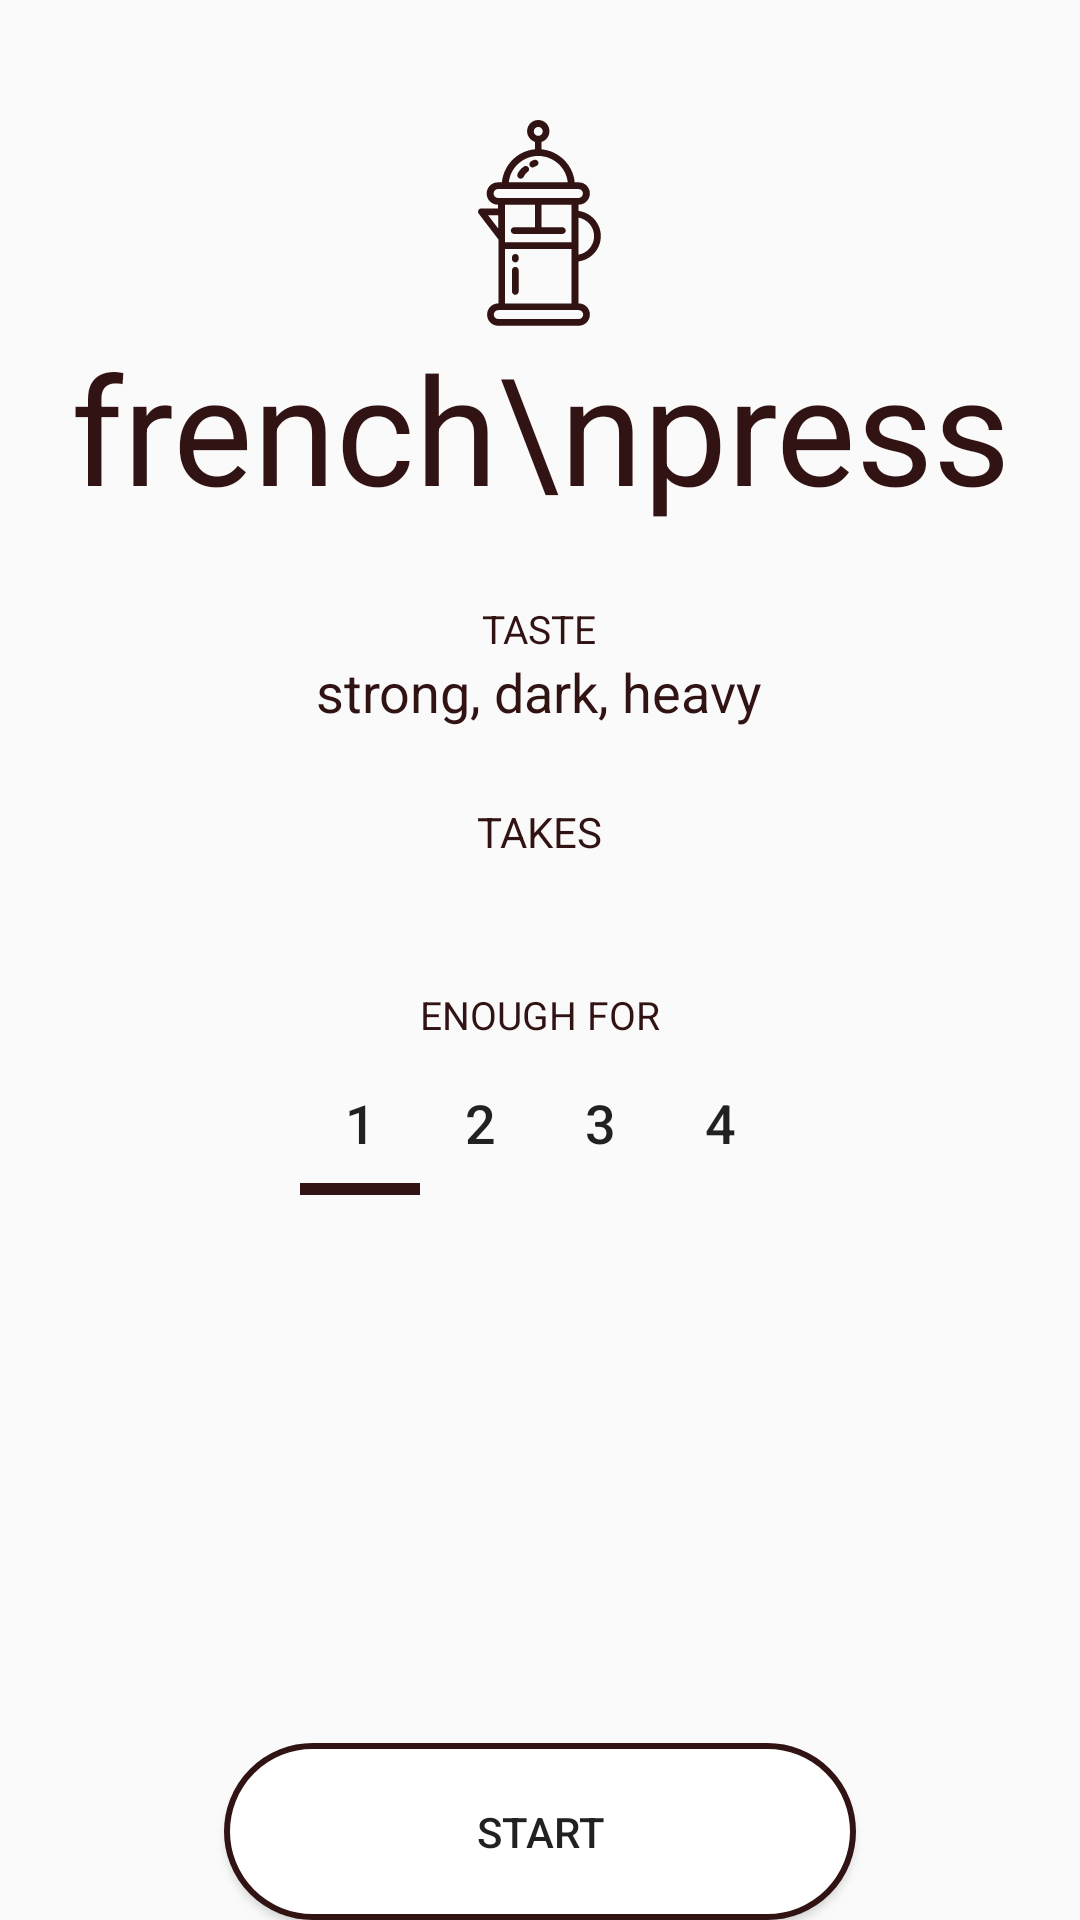

Where to tap for icons on this 1080 x 1920 app screen, as (x=x, y=y):
french press: (x=539, y=223)
